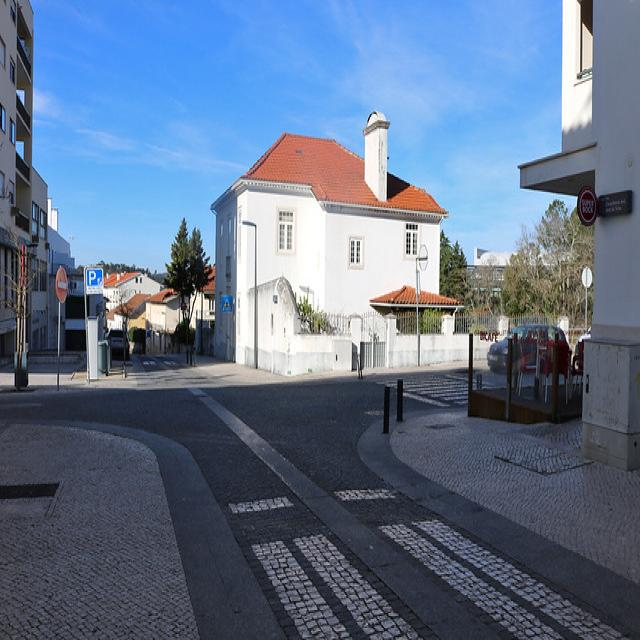building: (205, 105, 460, 373)
